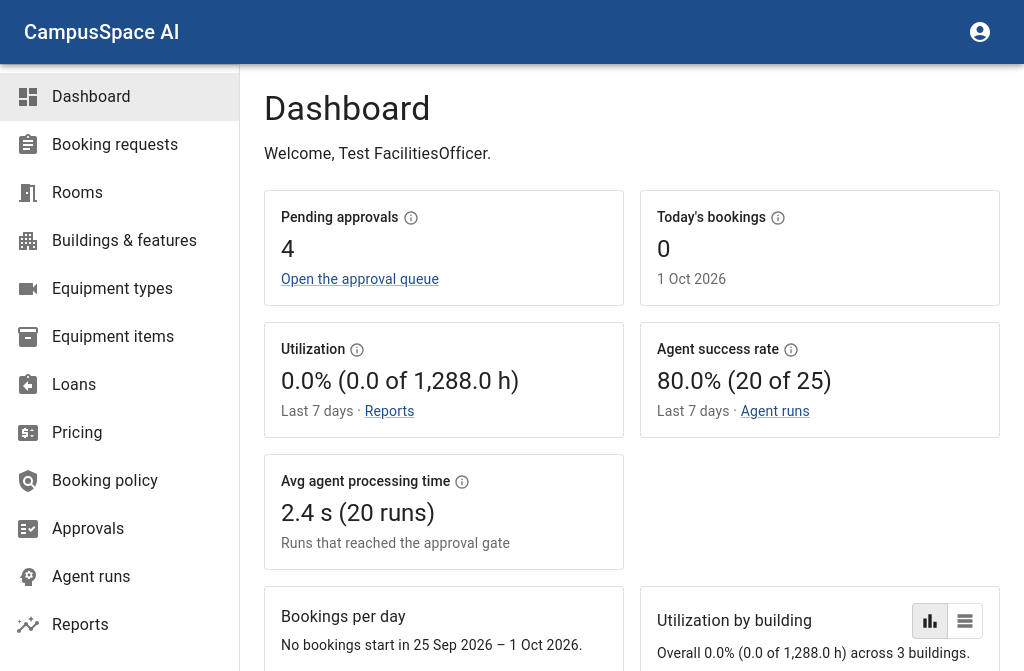
Test: Officer dashboard › shows the building figures as a table
The width and height of the screenshot is (1024, 671).
Click the button named "Show as table". click: (965, 621)
box: x1=947 y1=603 x2=983 y2=639
(page scrolled)
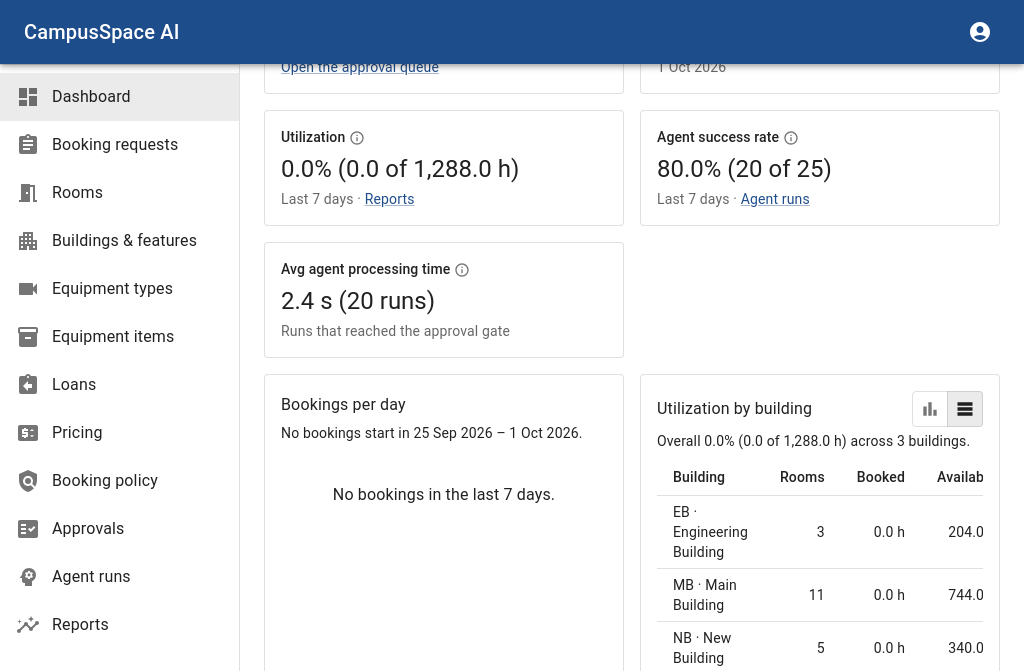
Expected: the row "MB · Main Building 11 0.0 h 744.0 h 0.0%" is shown, x1=657 y1=569 x2=983 y2=622
